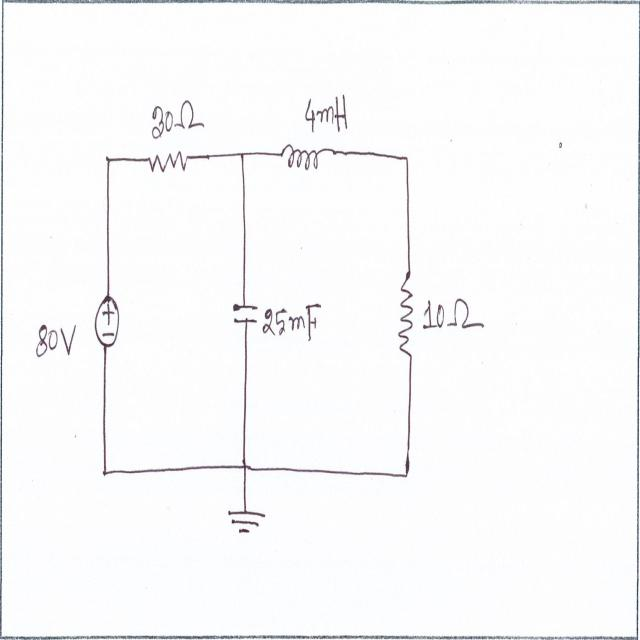capacitor: (229, 298, 261, 329)
ground: (225, 501, 268, 540)
inductor: (279, 142, 321, 177)
resistor: (398, 267, 415, 362), (147, 148, 190, 176)
voltage_source: (92, 287, 122, 353)
